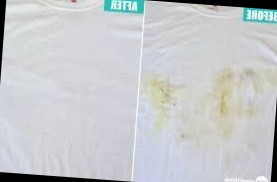earth: (237, 66, 277, 92), (214, 72, 236, 119), (150, 81, 176, 115), (241, 105, 259, 119)
